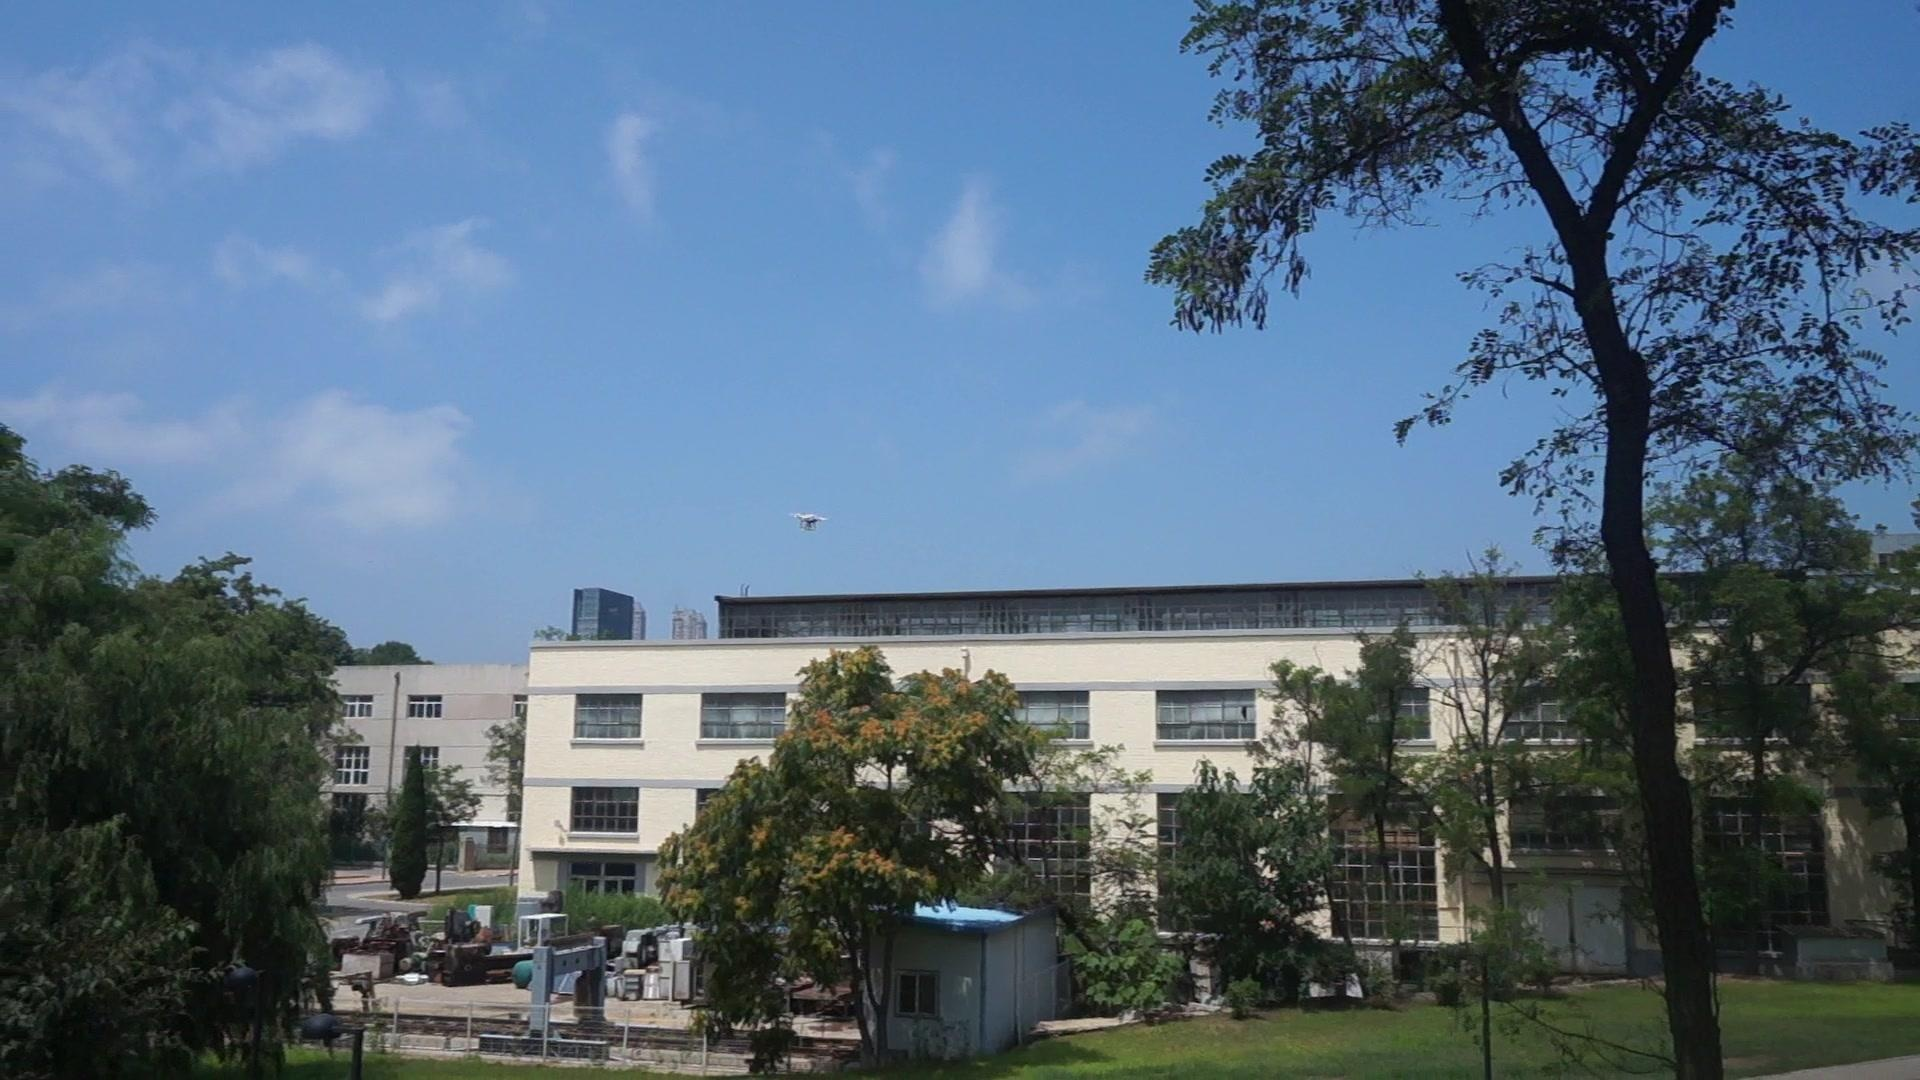UAV: (787, 512, 832, 531)
